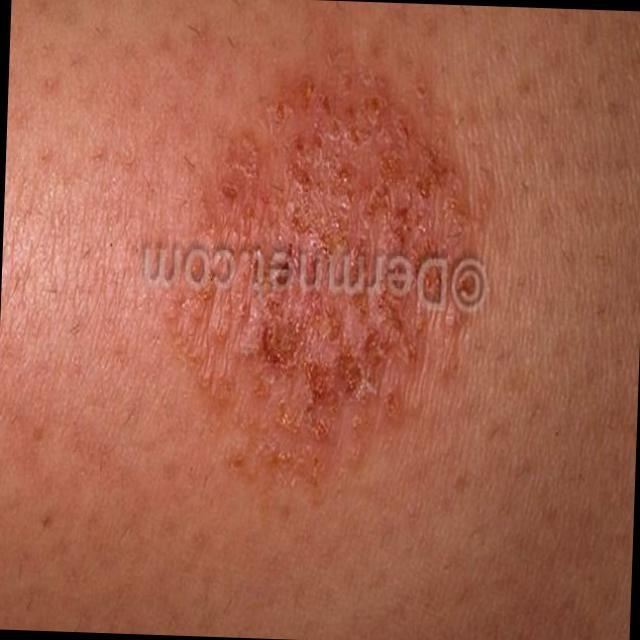Eczema: (176, 43, 480, 480)
